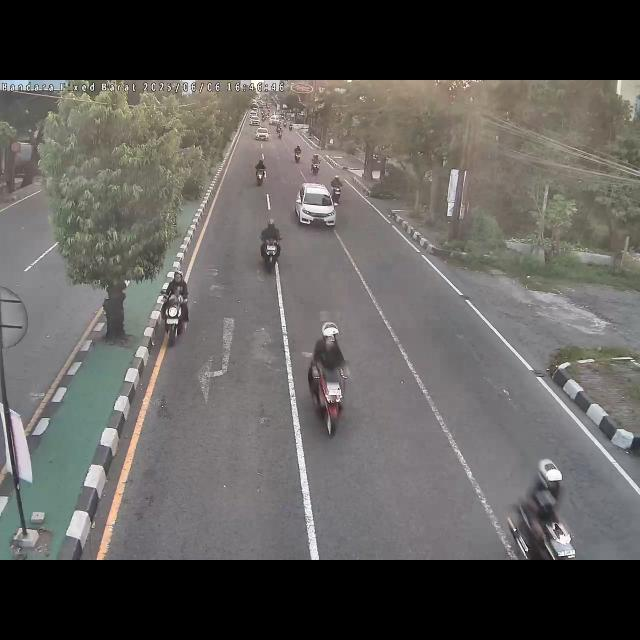Mobil: (292, 182, 338, 228)
Motor: (496, 452, 582, 560), (305, 316, 357, 442), (161, 264, 195, 348), (255, 219, 285, 275), (254, 156, 268, 188), (331, 173, 344, 205)
